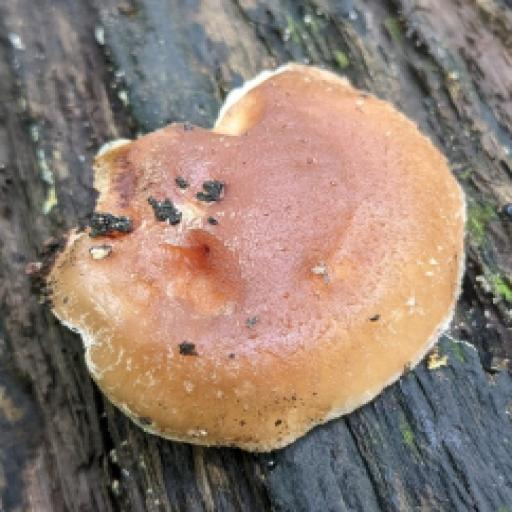Shiitake Mushroom: (78, 65, 458, 422)
